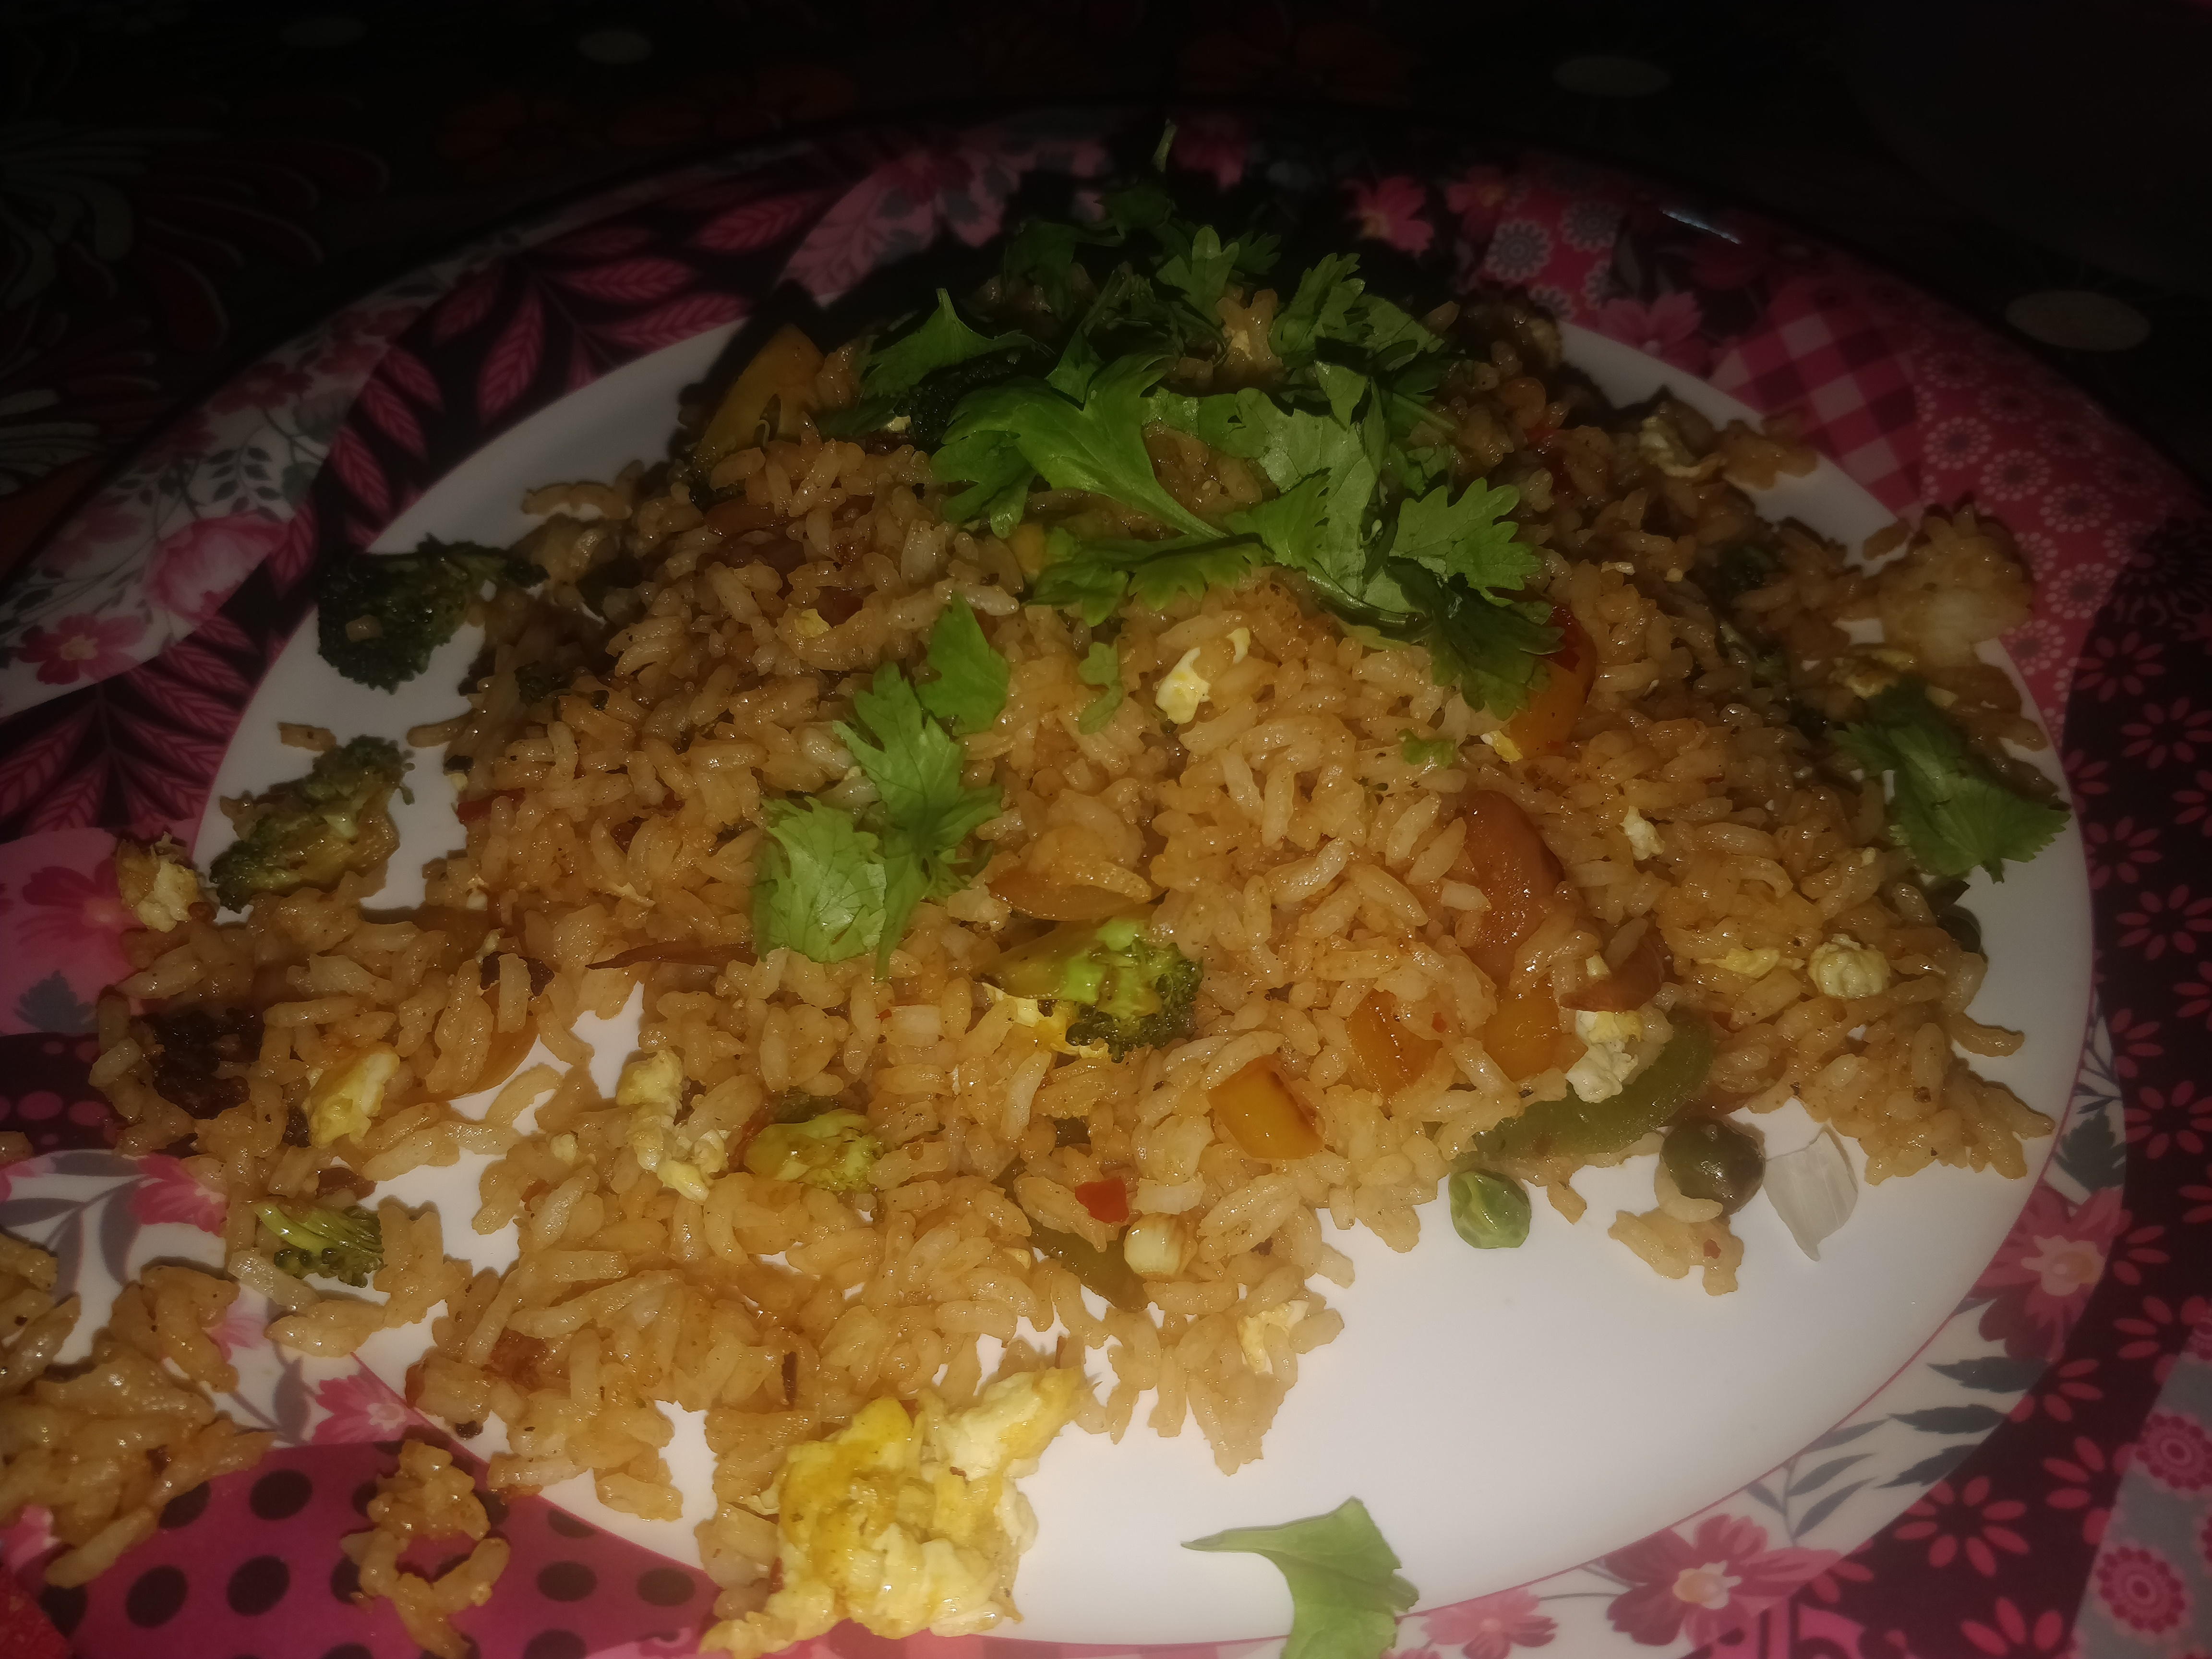food: (0, 101, 2128, 1659)
